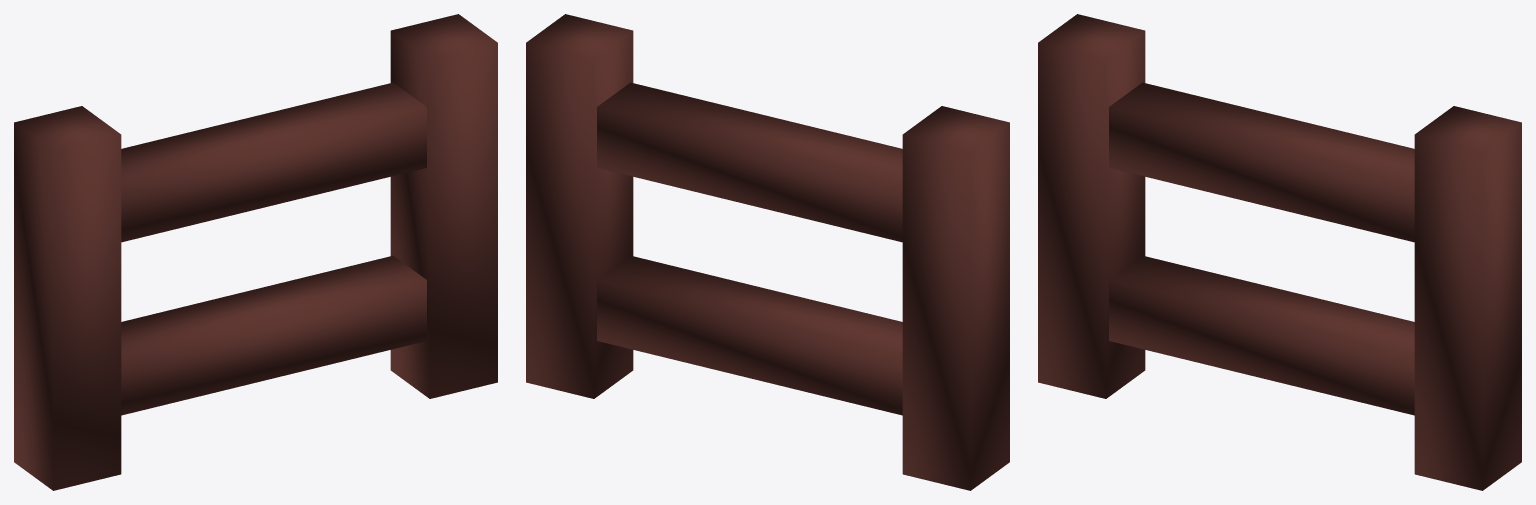
Rendered from fence.glb.
3 renders of one model, left to right at view 1: azimuth 30°, elevation 25°; view 2: azimuth 150°, elevation 25°; view 3: azimuth 330°, elevation 25°, orthographic.
Parts seen in each view (by area): view 1: LeftPole, RightPole, BottomPole, TopPole; view 2: LeftPole, RightPole, BottomPole, TopPole; view 3: RightPole, LeftPole, BottomPole, TopPole.
Part boxes in pixels (x1,y1,x2,y2): LeftPole: (14, 106, 121, 490); RightPole: (390, 14, 497, 398); BottomPole: (121, 255, 426, 415); TopPole: (121, 82, 426, 242); LeftPole: (902, 106, 1009, 490); RightPole: (526, 14, 633, 398); BottomPole: (597, 255, 902, 415); TopPole: (597, 82, 902, 242); RightPole: (1414, 106, 1521, 490); LeftPole: (1038, 14, 1145, 398); BottomPole: (1109, 255, 1414, 415); TopPole: (1109, 82, 1414, 242).
Bounding box in the file's own units: 4.48 × 3.27 × 0.6862.
